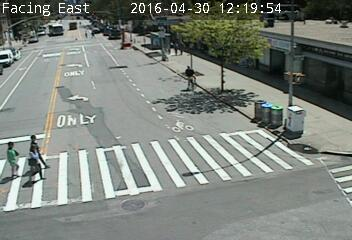neg: (285, 136, 305, 162), (83, 173, 102, 198), (261, 18, 279, 41), (76, 106, 93, 129), (194, 146, 210, 168), (320, 110, 336, 130), (216, 45, 231, 65), (122, 124, 137, 144), (241, 139, 256, 159), (207, 15, 222, 34), (241, 95, 255, 115), (162, 105, 176, 123), (253, 58, 266, 76), (32, 93, 45, 111), (106, 82, 119, 100), (284, 190, 297, 208), (201, 195, 214, 213), (99, 49, 112, 66), (193, 112, 206, 129), (280, 94, 292, 110), (123, 7, 134, 22), (33, 67, 44, 81), (297, 62, 308, 76), (150, 60, 160, 74), (138, 88, 148, 101), (167, 10, 176, 22), (322, 34, 331, 46), (54, 11, 63, 22), (95, 8, 104, 19), (67, 41, 75, 52), (70, 68, 77, 78), (147, 7, 154, 17), (82, 29, 89, 38), (127, 61, 134, 70), (44, 41, 51, 50)
pos: (18, 133, 52, 179), (178, 60, 200, 90), (176, 40, 188, 56), (171, 41, 180, 54), (88, 28, 96, 39)
